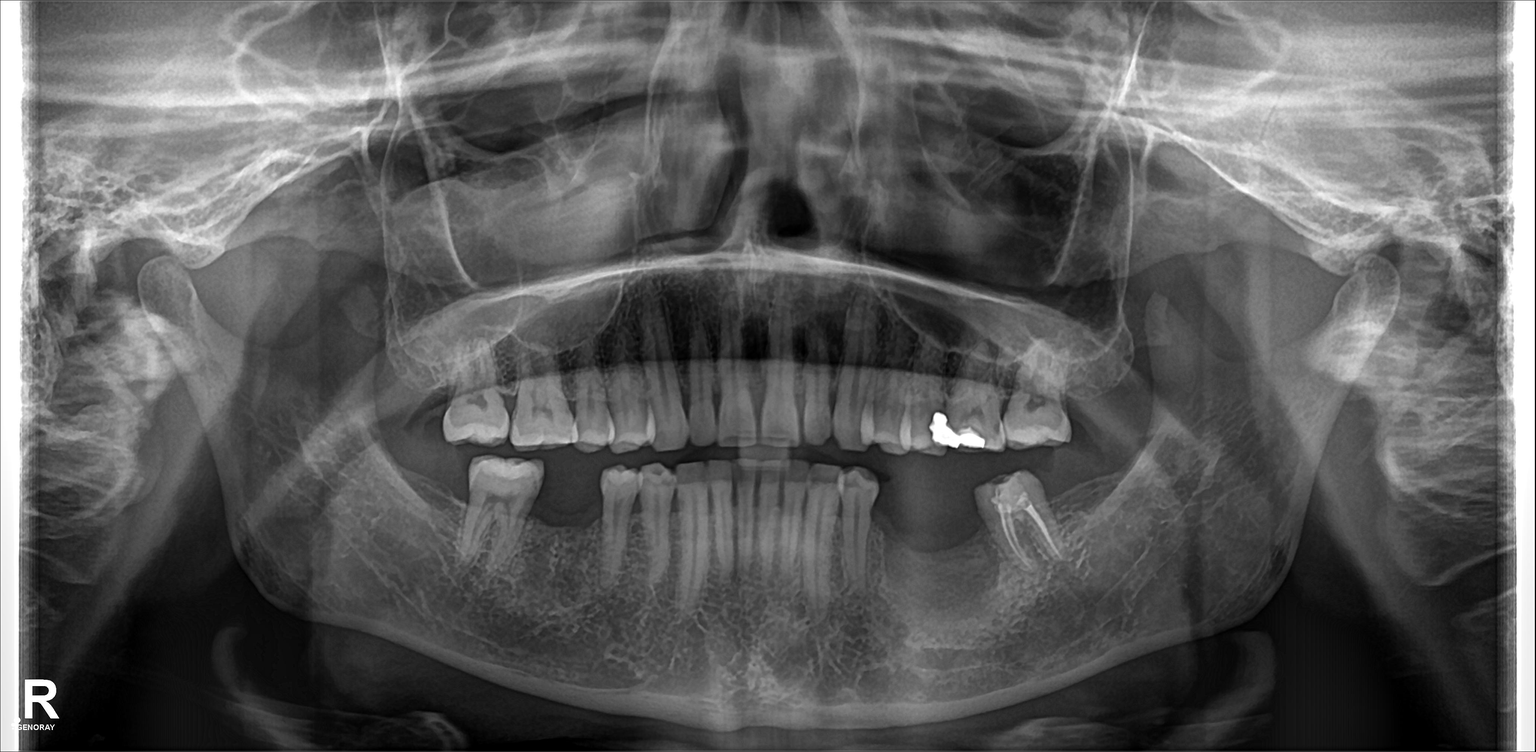Endodontically Treated Tooth: (994, 477, 1055, 588)
Missing Tooth: (883, 482, 933, 587), (1058, 473, 1111, 562), (399, 342, 450, 432), (939, 486, 980, 594), (542, 471, 588, 567), (415, 456, 459, 536), (1076, 367, 1117, 448), (1119, 348, 1149, 417)
